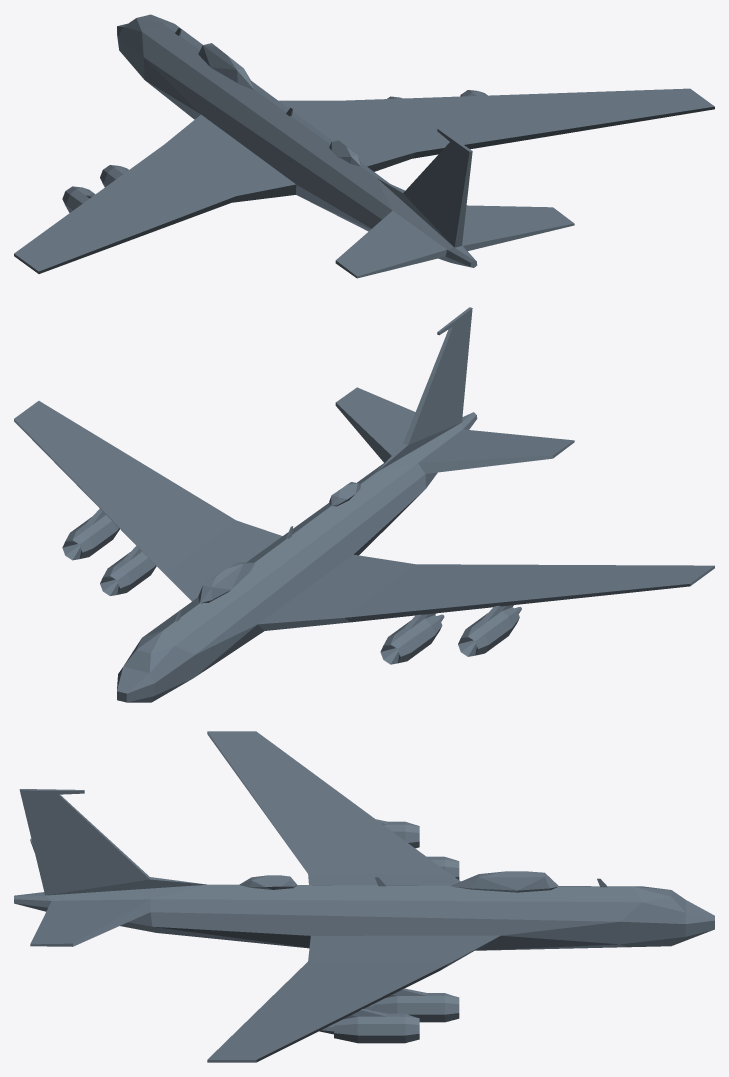
Rendered from AWACS-E6.glb.
3 views of the same model, one above another, from view 1: azimuth 30°, elevation 25°; view 2: azimuth 150°, elevation 25°; view 3: azimuth 270°, elevation 25° (orthographic).
Size of the model in its own units: 41.02 by 9.55 by 37.
